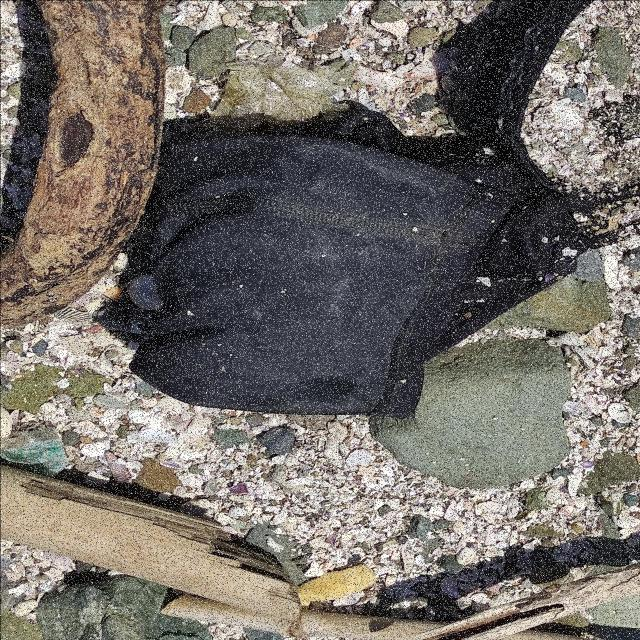textile_waste: (101, 125, 533, 417)
